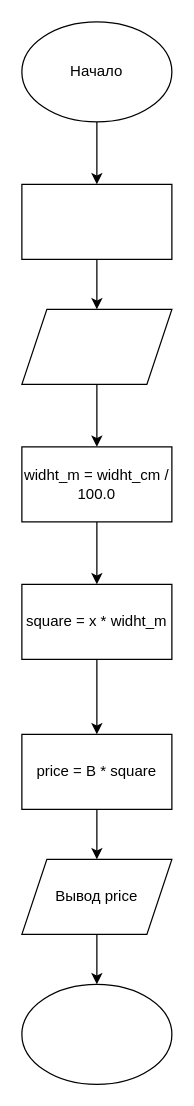
Image size: 194x1106. Some labels were removed from this diagram. The centre of each missing label's shape, as x and y in pixels:
widht_cm = 80: (x=96, y=221)
Ввод B, x: (x=96, y=346)
Конец: (x=96, y=1033)
